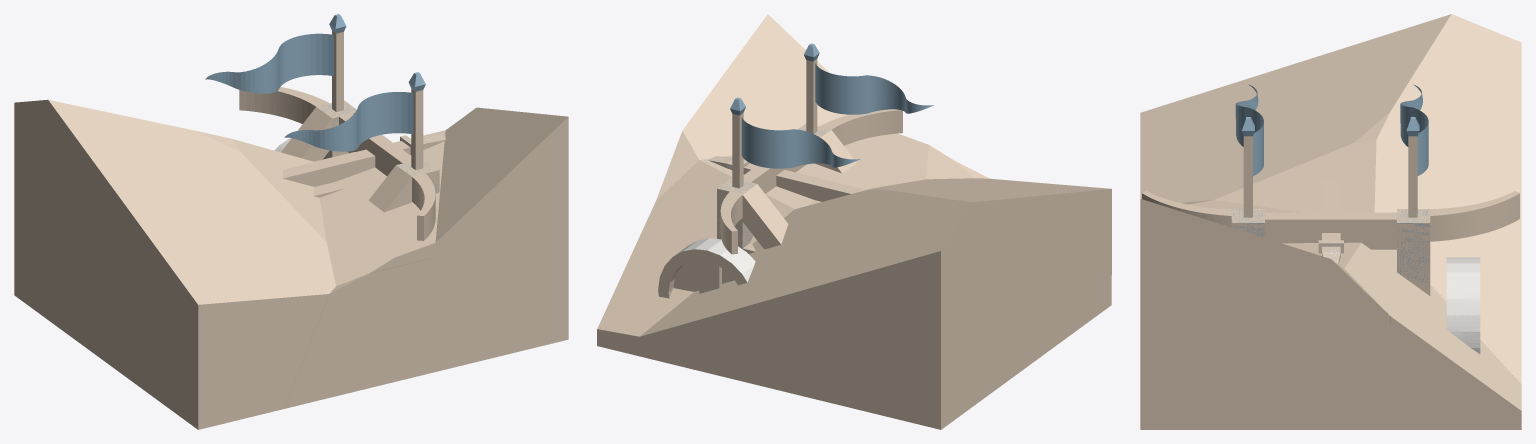
The model's file is siegeBallista.fbx.
3 renders of one model, left to right at view 1: azimuth 30°, elevation 25°; view 2: azimuth 150°, elevation 25°; view 3: azimuth 270°, elevation 25°, orthographic. The views are drawn at different scales.
Parts seen in each view (by area): view 1: siegeBallista_cell.004, siegeBallista_cell, siegeBallista_cell.005, siegeBallista_cell.006, siegeBallista, siegeBallista_cell.008, siegeBallista_cell.001, siegeBallista_cell.003, siegeBallista_cell.013, siegeBallista_cell.014, siegeBallista_cell.011, siegeBallista_cell.015 (+2 smaller); view 2: siegeBallista_cell.004, siegeBallista_cell.006, siegeBallista, siegeBallista_cell, siegeBallista_cell.010, siegeBallista_cell.001; view 3: siegeBallista_cell.004, siegeBallista_cell, siegeBallista_cell.006, siegeBallista, siegeBallista_cell.001, siegeBallista_cell.010, siegeBallista_cell.013, siegeBallista_cell.003, siegeBallista_cell.008, siegeBallista_cell.009, siegeBallista_cell.011.
Boxes of the visible parts, x1,y1,x2,y2 form: siegeBallista_cell.004: [14, 99, 345, 429]; siegeBallista_cell: [435, 107, 568, 345]; siegeBallista_cell.005: [284, 257, 544, 408]; siegeBallista_cell.006: [314, 130, 445, 286]; siegeBallista: [239, 14, 445, 236]; siegeBallista_cell.008: [205, 33, 333, 93]; siegeBallista_cell.001: [239, 87, 356, 161]; siegeBallista_cell.003: [282, 140, 445, 186]; siegeBallista_cell.013: [354, 138, 439, 240]; siegeBallista_cell.014: [358, 92, 413, 147]; siegeBallista_cell.011: [284, 108, 358, 151]; siegeBallista_cell.015: [411, 87, 424, 169]; siegeBallista_cell.004: [633, 178, 1111, 429]; siegeBallista_cell.006: [597, 133, 974, 354]; siegeBallista: [658, 45, 933, 298]; siegeBallista_cell: [656, 14, 848, 200]; siegeBallista_cell.010: [658, 238, 755, 294]; siegeBallista_cell.001: [717, 166, 788, 251]; siegeBallista_cell.004: [1140, 14, 1521, 384]; siegeBallista_cell: [1140, 199, 1390, 429]; siegeBallista_cell.006: [1181, 200, 1521, 429]; siegeBallista: [1142, 86, 1519, 349]; siegeBallista_cell.001: [1353, 191, 1519, 292]; siegeBallista_cell.010: [1446, 257, 1480, 347]; siegeBallista_cell.013: [1142, 193, 1360, 242]; siegeBallista_cell.003: [1318, 179, 1343, 262]; siegeBallista_cell.008: [1400, 85, 1428, 146]; siegeBallista_cell.009: [1406, 117, 1419, 217]; siegeBallista_cell.011: [1235, 85, 1257, 146].
Size of the model in its own units: 1406 by 915 by 1209.
